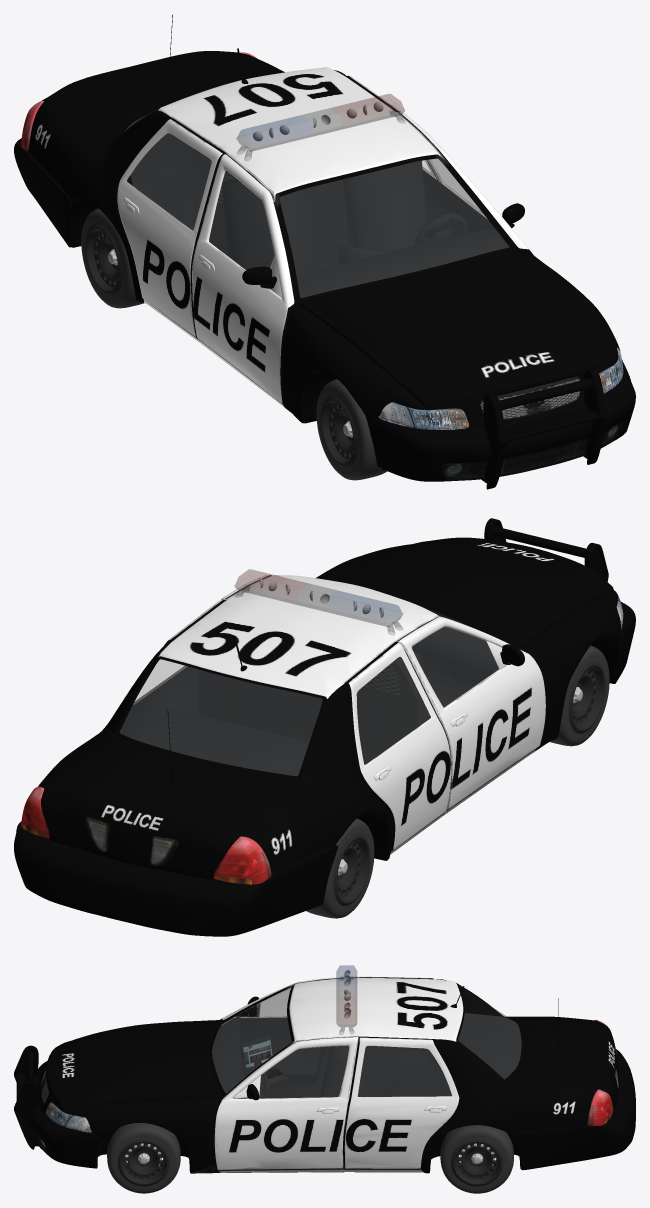
Rendered from police_car.glb.
The picture shows the model from 3 angles, top to bottom: view 1: azimuth 30°, elevation 25°; view 2: azimuth 150°, elevation 25°; view 3: azimuth 270°, elevation 25°; orthographic projection. The views are drawn at different scales.
Parts seen in each view (by area): view 1: CrownVic.Body, windows glass, interior, CrownVic.Wheel.Ft.R, Roof light bar, CrownVic.Wheel.Bk.R; view 2: CrownVic.Body, windows glass, interior, Roof light bar, CrownVic.Wheel.Bk.R, CrownVic.Wheel.Ft.R; view 3: CrownVic.Body, windows glass, interior, CrownVic.Wheel.Ft.L, CrownVic.Wheel.Bk.L, Roof light bar.
Boxes of the visible parts, left/top/right/bottom form: CrownVic.Body: left=14, top=14, right=635, bottom=489; windows glass: left=125, top=109, right=508, bottom=297; interior: left=110, top=116, right=509, bottom=298; CrownVic.Wheel.Ft.R: left=316, top=379, right=387, bottom=480; Roof light bar: left=236, top=94, right=405, bottom=160; CrownVic.Wheel.Bk.R: left=81, top=208, right=144, bottom=308; CrownVic.Body: left=14, top=518, right=635, bottom=936; windows glass: left=120, top=607, right=498, bottom=775; interior: left=119, top=615, right=498, bottom=781; Roof light bar: left=234, top=569, right=403, bottom=635; CrownVic.Wheel.Bk.R: left=306, top=818, right=374, bottom=918; CrownVic.Wheel.Ft.R: left=550, top=645, right=609, bottom=746; CrownVic.Body: left=14, top=976, right=635, bottom=1173; windows glass: left=212, top=985, right=521, bottom=1098; interior: left=212, top=1013, right=521, bottom=1098; CrownVic.Wheel.Ft.L: left=107, top=1123, right=180, bottom=1193; CrownVic.Wheel.Bk.L: left=440, top=1125, right=513, bottom=1193; Roof light bar: left=336, top=965, right=356, bottom=1034.
Bounding box in the file's own units: 2.48 × 1.98 × 6.7.
7 materials, 5 textured.
